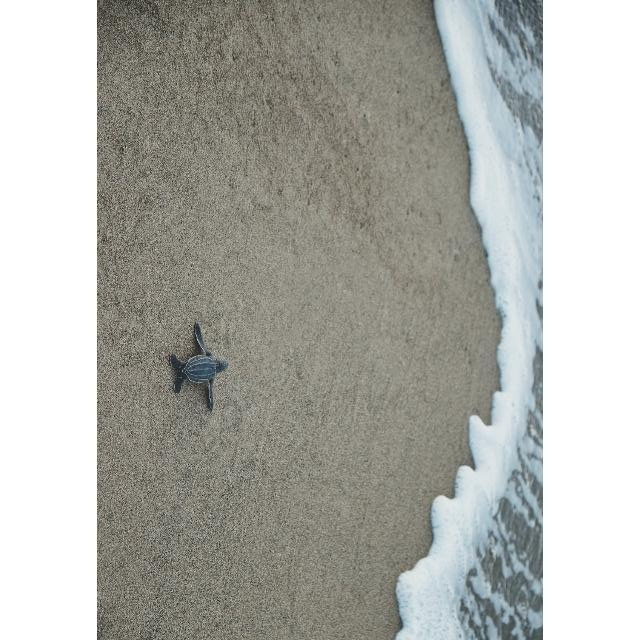turtle: (168, 323, 229, 411)
